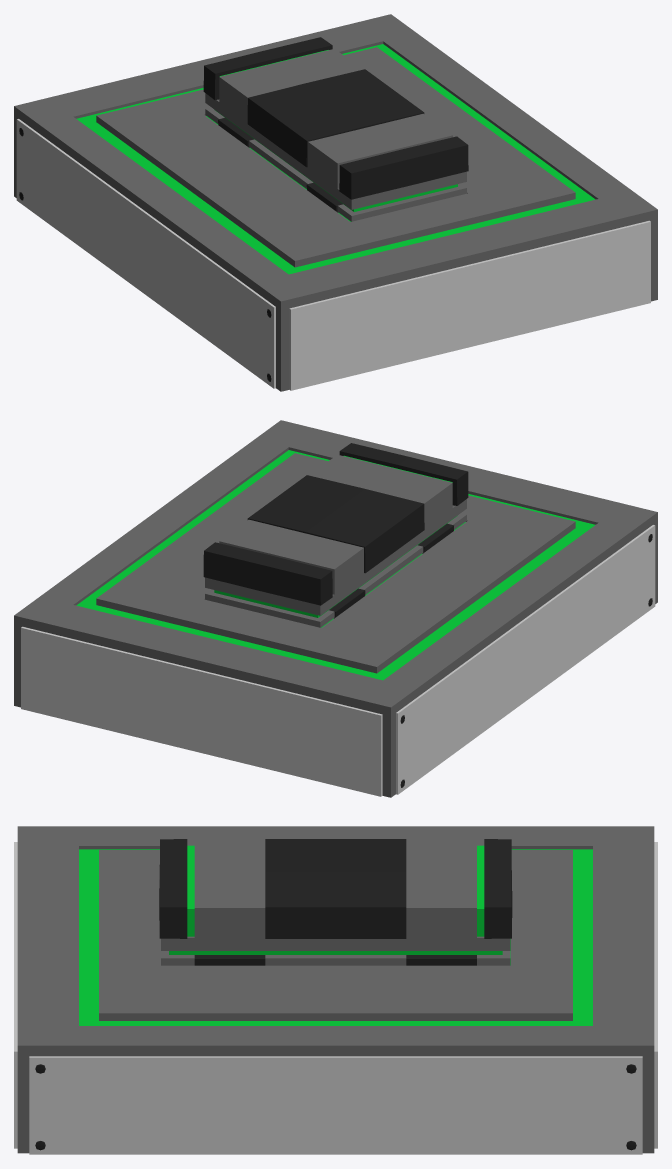
Rendered from Bateria.fbx.
The picture shows the model from 3 angles, top to bottom: view 1: azimuth 30°, elevation 25°; view 2: azimuth 150°, elevation 25°; view 3: azimuth 270°, elevation 25°; orthographic projection. The views are drawn at different scales.
Parts seen in each view (by area): view 1: Cube.004, Cube.003; view 2: Cube.004, Cube.003; view 3: Cube.004, Cube.003.
Boxes of the visible parts, x1,y1,x2,y2 form: Cube.004: [14, 14, 657, 391]; Cube.003: [203, 37, 468, 221]; Cube.004: [14, 420, 657, 797]; Cube.003: [203, 443, 468, 627]; Cube.004: [14, 826, 657, 1154]; Cube.003: [159, 839, 512, 965].
Size of the model in its own units: 293 by 105 by 358.
